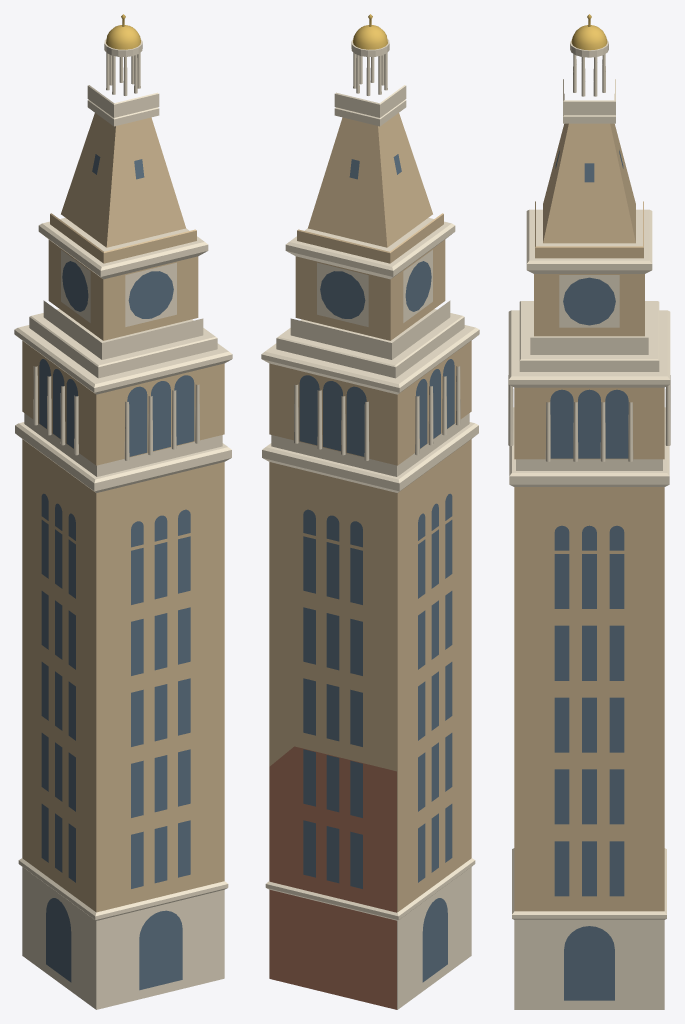
The model's file is den-daniels-and-fisher-tower.glb.
The picture shows the model from 3 angles, left to right: view 1: azimuth 30°, elevation 25°; view 2: azimuth 150°, elevation 25°; view 3: azimuth 270°, elevation 25°; orthographic projection.
Visible parts, largest first — view 1: Daniels & Fisher Tower; view 2: Daniels & Fisher Tower; view 3: Daniels & Fisher Tower.
Part boxes in pixels (x1,y1,x2,y2): Daniels & Fisher Tower: [14, 14, 232, 1009]; Daniels & Fisher Tower: [261, 14, 479, 1009]; Daniels & Fisher Tower: [508, 14, 670, 1009].
Bounding box in the file's own units: 15.38 × 101 × 15.38.
